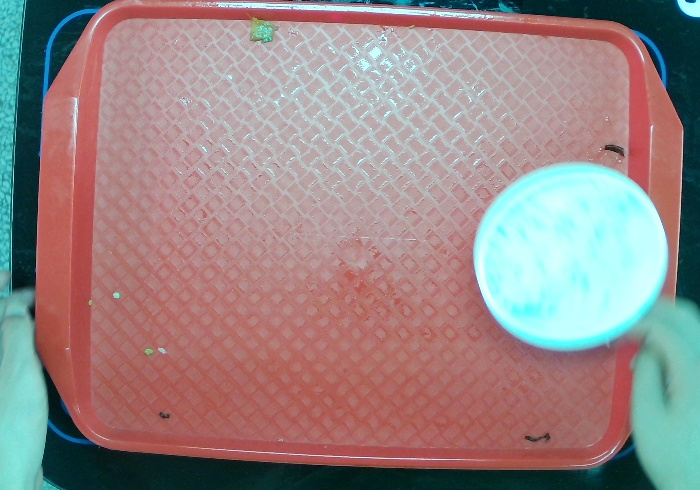YKMZ-Fan_Wan: (468, 158, 673, 358)
